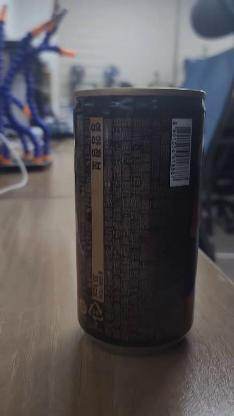Can: (71, 93, 194, 353)
